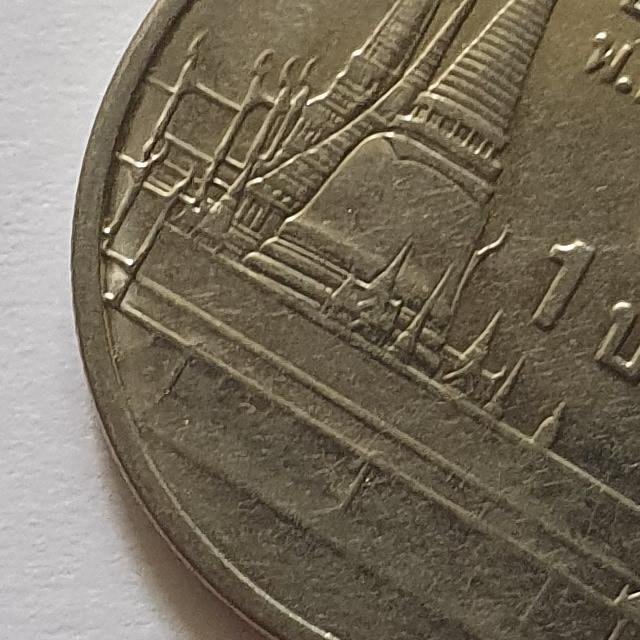2 Bath: (67, 1, 640, 640)
